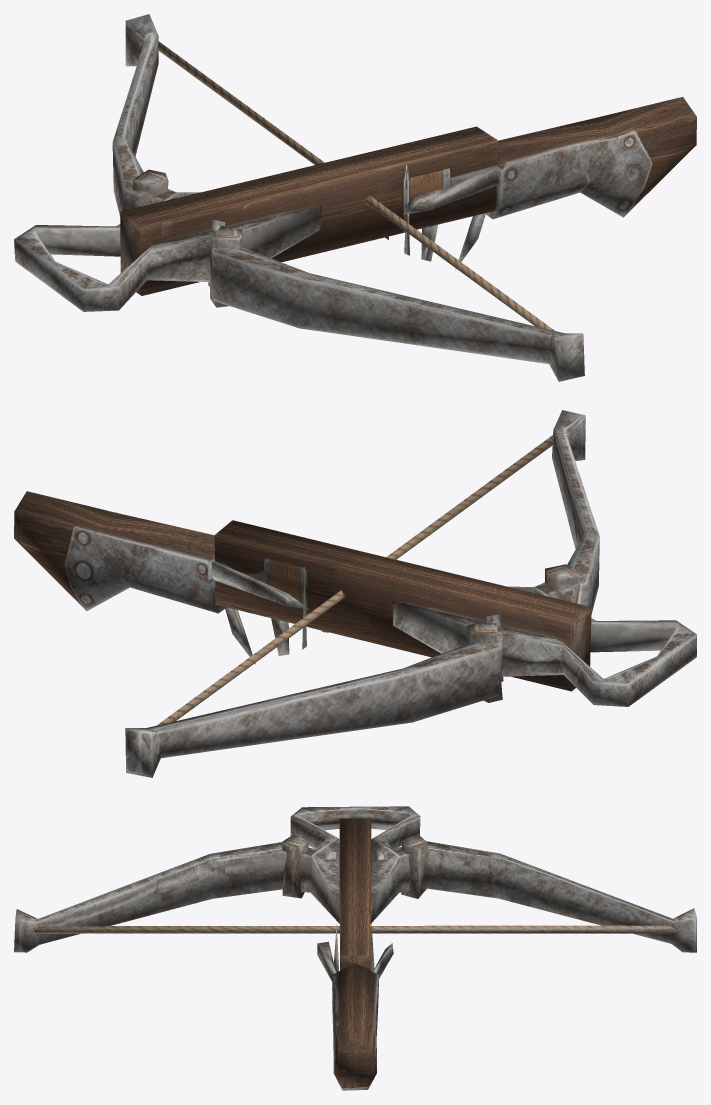
Rendered from human-crossbow.glb.
The picture shows the model from 3 angles, top to bottom: view 1: azimuth 30°, elevation 25°; view 2: azimuth 150°, elevation 25°; view 3: azimuth 270°, elevation 25°; orthographic projection. The views are drawn at different scales.
Size of the model in its own units: 0.8457 by 0.166 by 1.
1 material, 1 textured.
